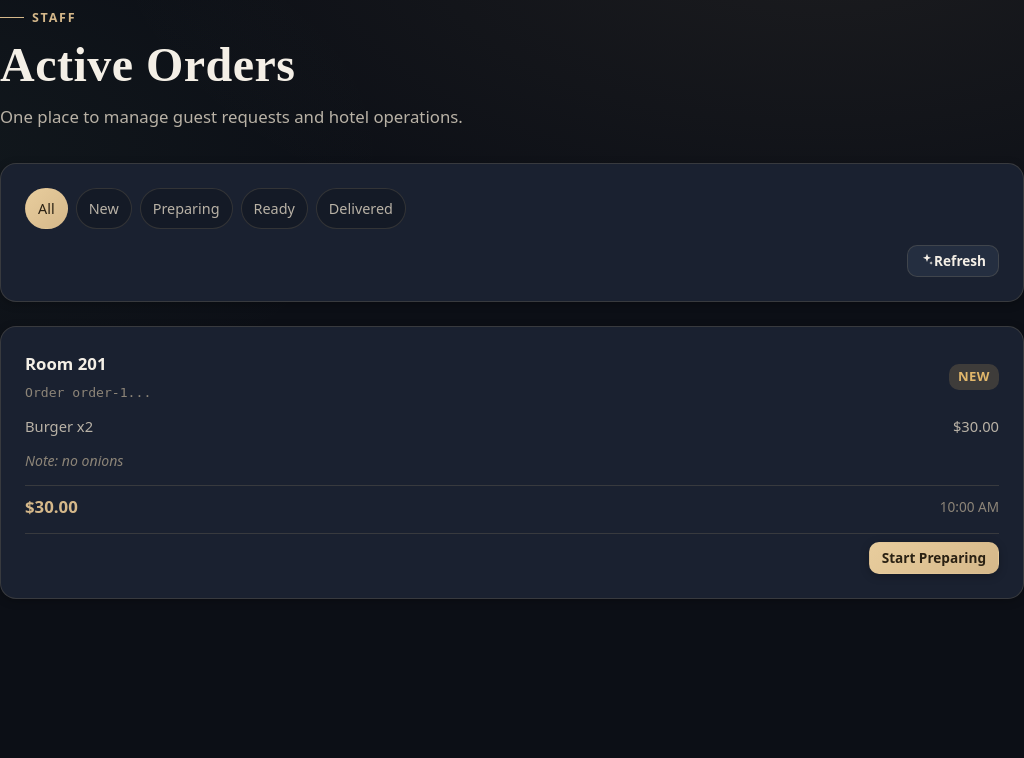
Test: StaffOrdersView › allows dismissing status update error
The width and height of the screenshot is (1024, 758).
Expected: the text "Burger x2" is shown, [25,415,93,438]
Click the button "Start Preparing".
click(934, 558)  # box [869,542,999,574]
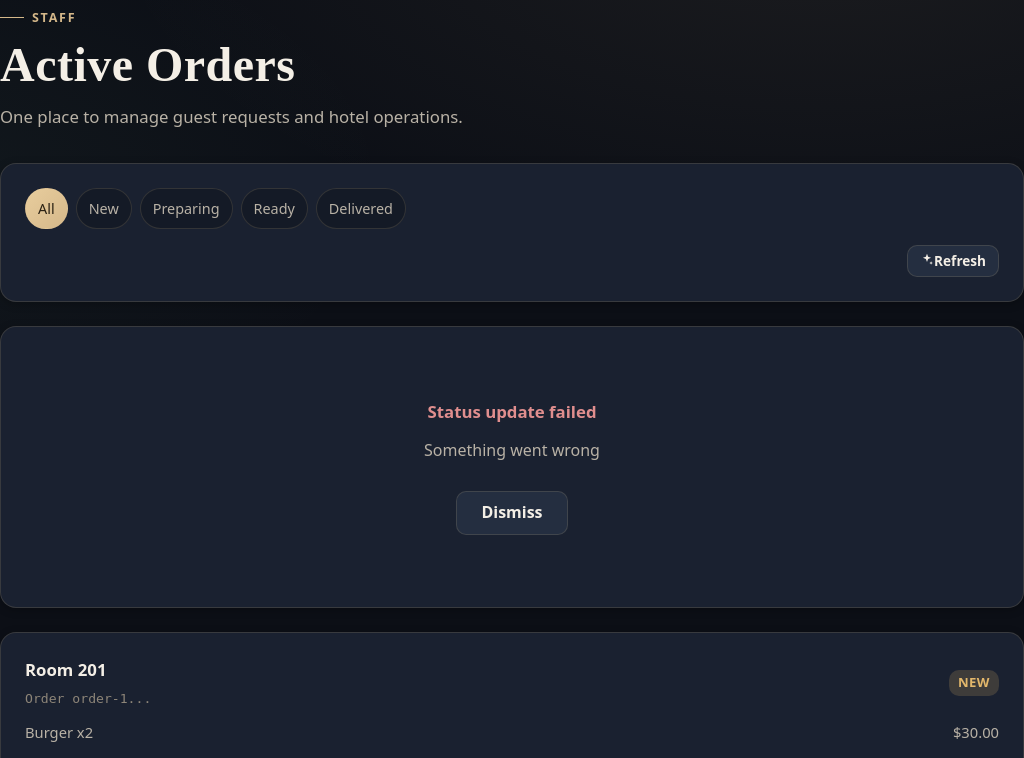
Expected: the heading "Status update failed" is shown, [428,399,597,426]
Click the button "Dismiss".
click(512, 513)  # box [456,491,568,535]
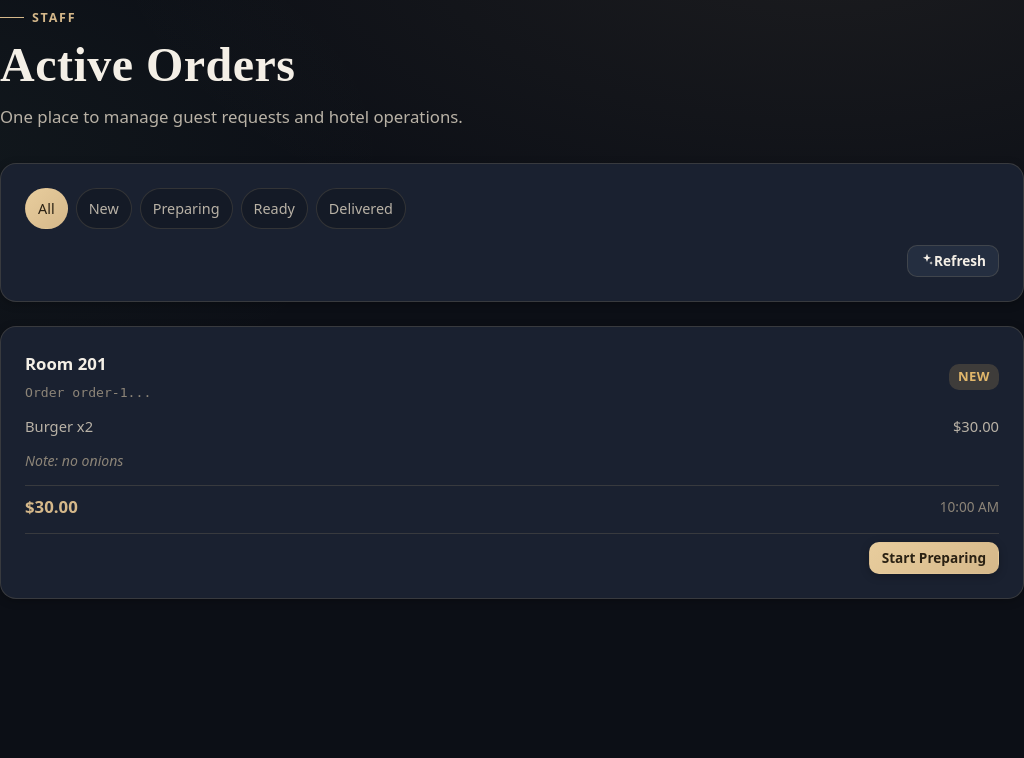
Expected: the heading "Status update failed" is gone
